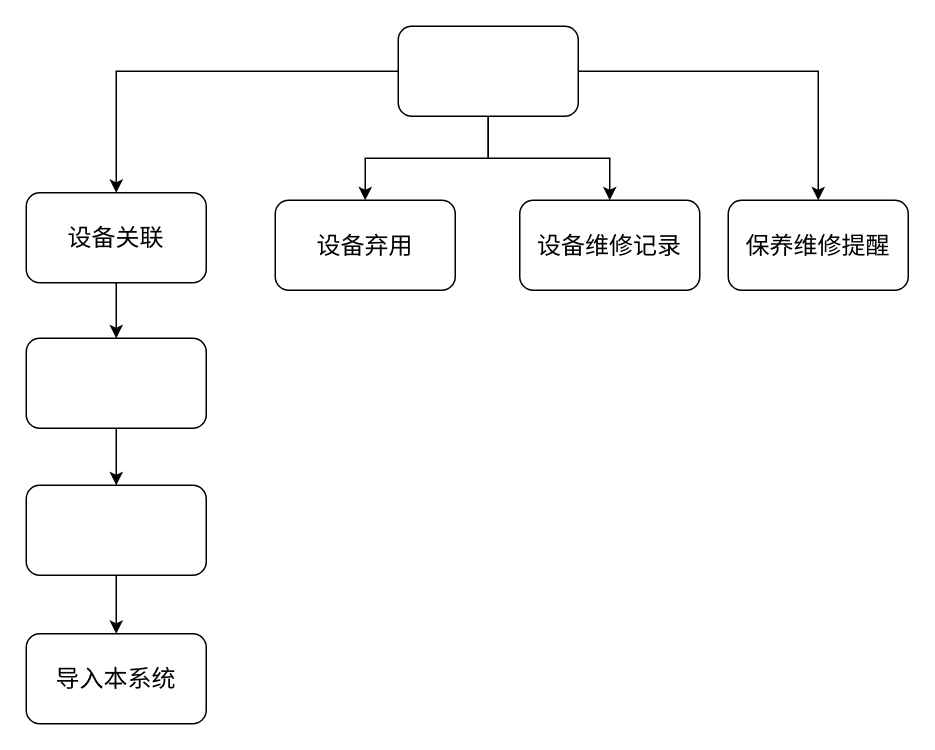
Image size: 935x750. Some labels were removed from this diagram. Here are the shapes that lost their labels. From the top down, the centre of each, then its label:
the point at 487,70: 设备管理
the point at 115,382: 资产管理系统
the point at 115,529: 导出个人资产excel
